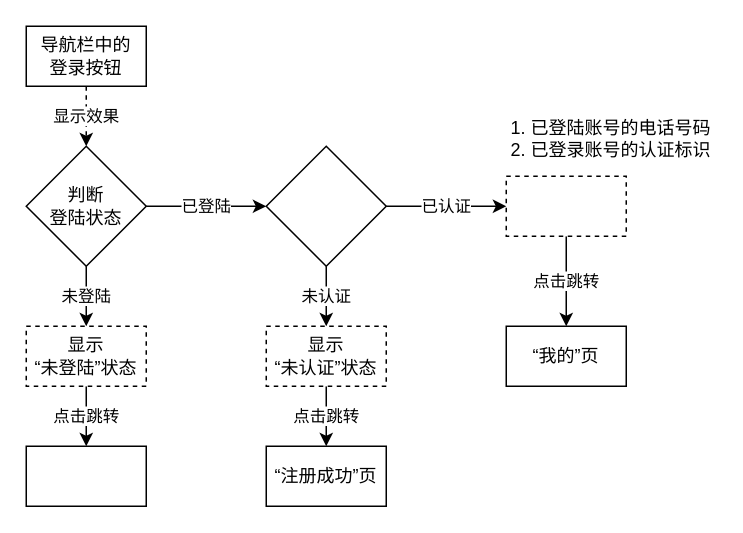
Some shapes in this 743 by 533 pixel diagram are drawn without their labels. Here are the shapes that lost their labels. From the top down, the centre of each, then its label:
At point (325, 205): "判断账号 认证状态".
At point (565, 205): "显示 “账号”状态".
At point (85, 475): "“登陆”页".
